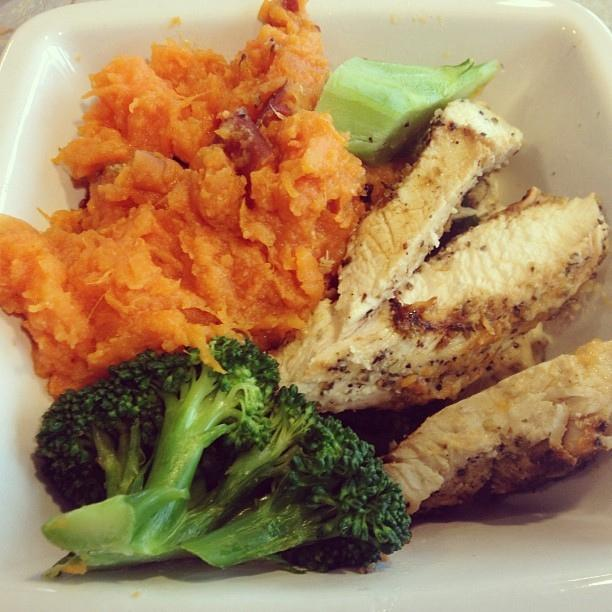broccoli: (37, 336, 350, 578), (178, 416, 413, 570), (313, 56, 504, 164)
potato: (1, 1, 414, 401)
